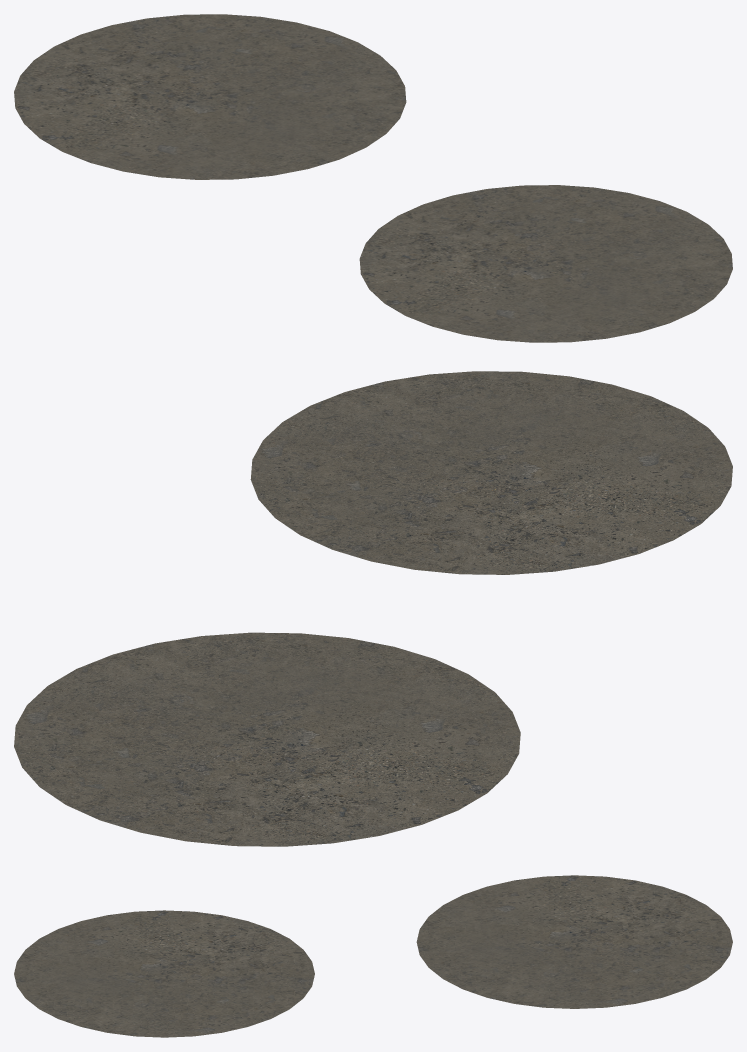
Rendered from flowersGrass.gltf.
3 renders of one model, top to bottom at view 1: azimuth 30°, elevation 25°; view 2: azimuth 150°, elevation 25°; view 3: azimuth 270°, elevation 25°, orthographic. The views are drawn at different scales.
Visible parts, largest first — view 1: Circle; view 2: Circle; view 3: Circle.
Part boxes in pixels (x1,y1,x2,y2): Circle: [14, 14, 732, 342]; Circle: [14, 371, 732, 846]; Circle: [14, 875, 732, 1037].
Size of the model in its own units: 0.1647 by 0 by 0.3082.
1 material, 1 textured.
